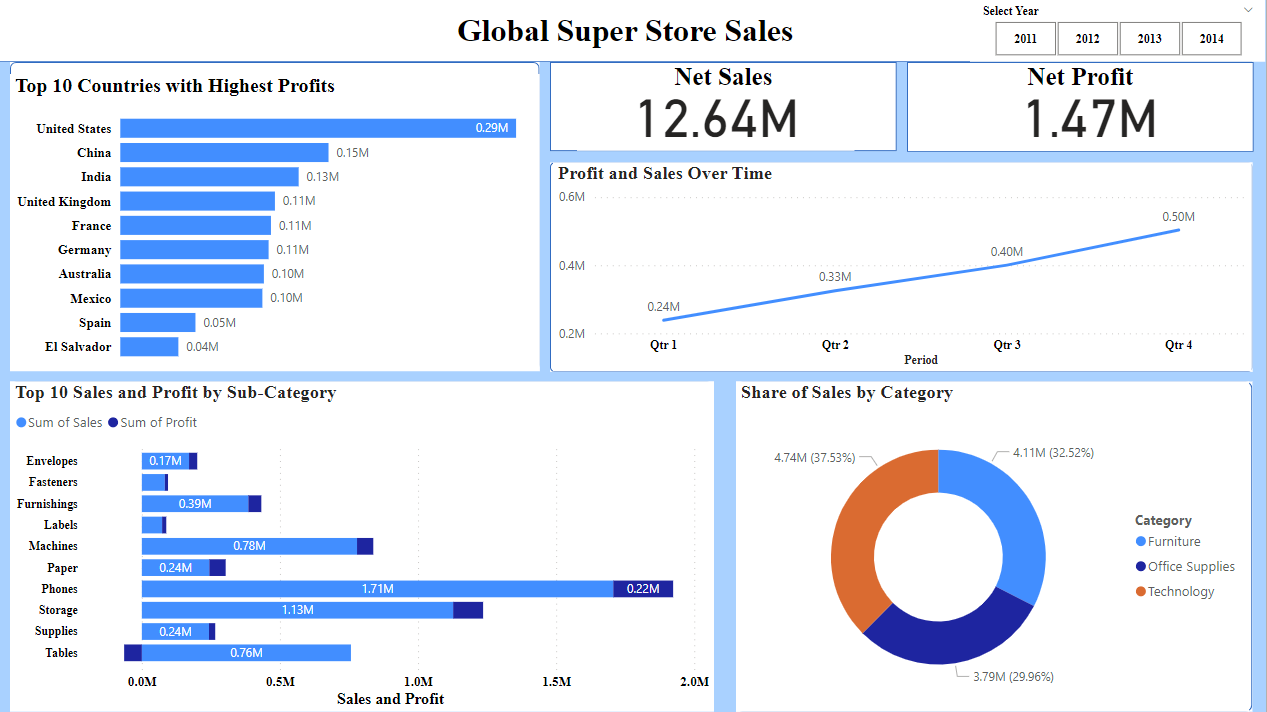

This screenshot's page, from the dashboard's own definition file:
{"tool":"powerbi","page":{"name":"Page 1","canvas":[1280,720],"ordinal":0},"visuals":[{"type":"shape","box":[0,0,1265.9,63.6],"z":0},{"type":"shape","box":[556.8,164.6,709,211.2],"z":1000},{"type":"shape","box":[12.1,63.6,534.5,311.9],"z":2000},{"type":"barChart","title":"Top 10  Countries with Highest Profits","fields":{"Category":["Orders.Country"],"Y":["Sum(Orders.Profit)"]},"box":[12.1,75.7,534.5,299.8],"z":3000},{"type":"shape","box":[12.3,386.7,710.4,331.9],"z":4000},{"type":"shape","box":[744.7,386.7,521.1,333.3],"z":5000},{"type":"shape","box":[556.8,63.1,350,90],"z":6000},{"type":"shape","box":[917.6,63.6,350,90.9],"z":7000},{"type":"lineChart","title":"Profit and Sales Over Time","fields":{"Category":["Orders.Order Date.Variation.Date Hierarchy.Year","Orders.Order Date.Variation.Date Hierarchy.Quarter"],"Y":["Sum(Orders.Profit)"]},"box":[560.3,165,705.6,210.5],"z":8000},{"type":"card","fields":{"Values":["Sum(Orders.Sales)"]},"box":[584.5,93.9,280.1,59.1],"z":9000},{"type":"card","fields":{"Values":["Sum(Orders.Profit)"]},"box":[997.9,93.9,207.4,59.1],"z":10000},{"type":"barChart","title":"  Top 10 Sales and  Profit by Sub-Category","fields":{"Category":["Orders.Sub-Category","Orders.Order Date.Variation.Date Hierarchy.Year","Orders.Order Date.Variation.Date Hierarchy.Month"],"Y":["Sum(Orders.Sales)","Sum(Orders.Profit)"]},"box":[12.3,386.7,710.4,333.3],"z":11000},{"type":"donutChart","title":"Share of Sales by Category","fields":{"Category":["Orders.Category","Orders.Order Date.Variation.Date Hierarchy.Year"],"Y":["Sum(Orders.Sales)"]},"box":[745,386.1,517.9,333.1],"z":12000},{"type":"slicer","fields":{"Values":["Orders.Year"]},"box":[981.2,0,298.3,63.6],"z":13000}]}

Visuals, with their boxes in screenshot pixels (x1, y1, x2, y2), scaled from the page's 1280x720 canvas onto the 1267x712 screenshot:
shape: [0,0,1253,63]
shape: [551,163,1253,372]
shape: [12,63,541,371]
"Top 10  Countries with Highest Profits" barChart: [12,75,541,371]
shape: [12,382,715,711]
shape: [737,382,1253,711]
shape: [551,62,898,151]
shape: [908,63,1255,153]
"Profit and Sales Over Time" lineChart: [555,163,1253,371]
card - Sum(Orders.Sales): [579,93,856,151]
card - Sum(Orders.Profit): [988,93,1193,151]
"  Top 10 Sales and  Profit by Sub-Category" barChart: [12,382,715,711]
"Share of Sales by Category" donutChart: [737,382,1250,711]
slicer - Orders.Year: [971,0,1266,63]
